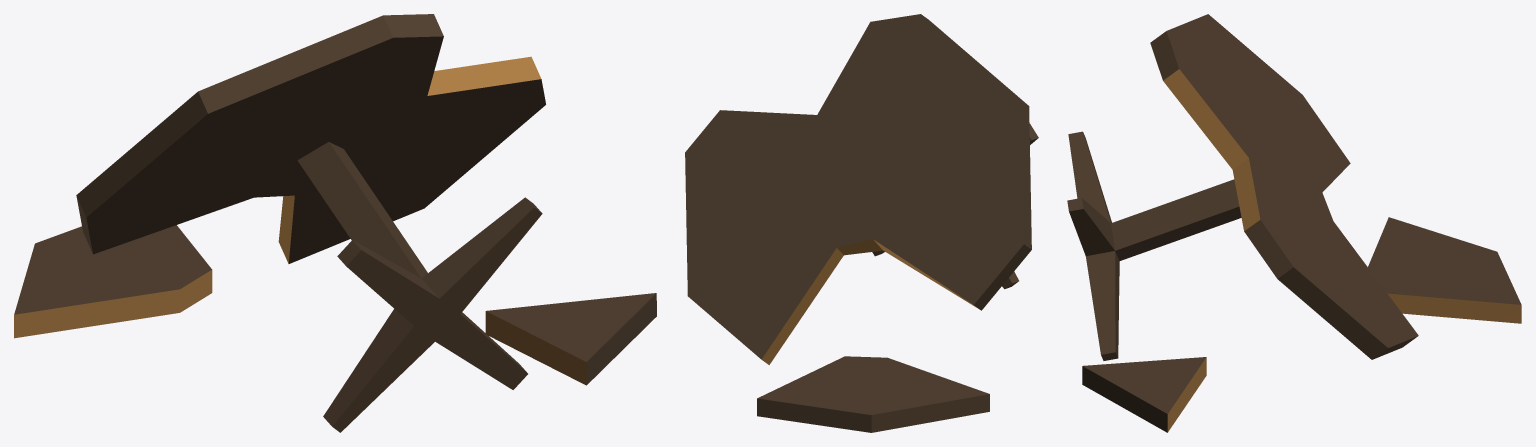
The model's file is apocalypse-table-round-wooden-broken.glb.
3 views of the same model, side by side, from view 1: azimuth 30°, elevation 25°; view 2: azimuth 150°, elevation 25°; view 3: azimuth 270°, elevation 25° (orthographic). The views are drawn at different scales.
Parts seen in each view (by area): view 1: table-round-wooden-broken; view 2: table-round-wooden-broken; view 3: table-round-wooden-broken.
Part boxes in pixels (box(x1,y1,x2,y2)): table-round-wooden-broken: box(14, 14, 656, 432); table-round-wooden-broken: box(685, 14, 1038, 432); table-round-wooden-broken: box(1067, 14, 1521, 432).
Bounding box in the file's own units: 1.55 × 1.09 × 1.52.
